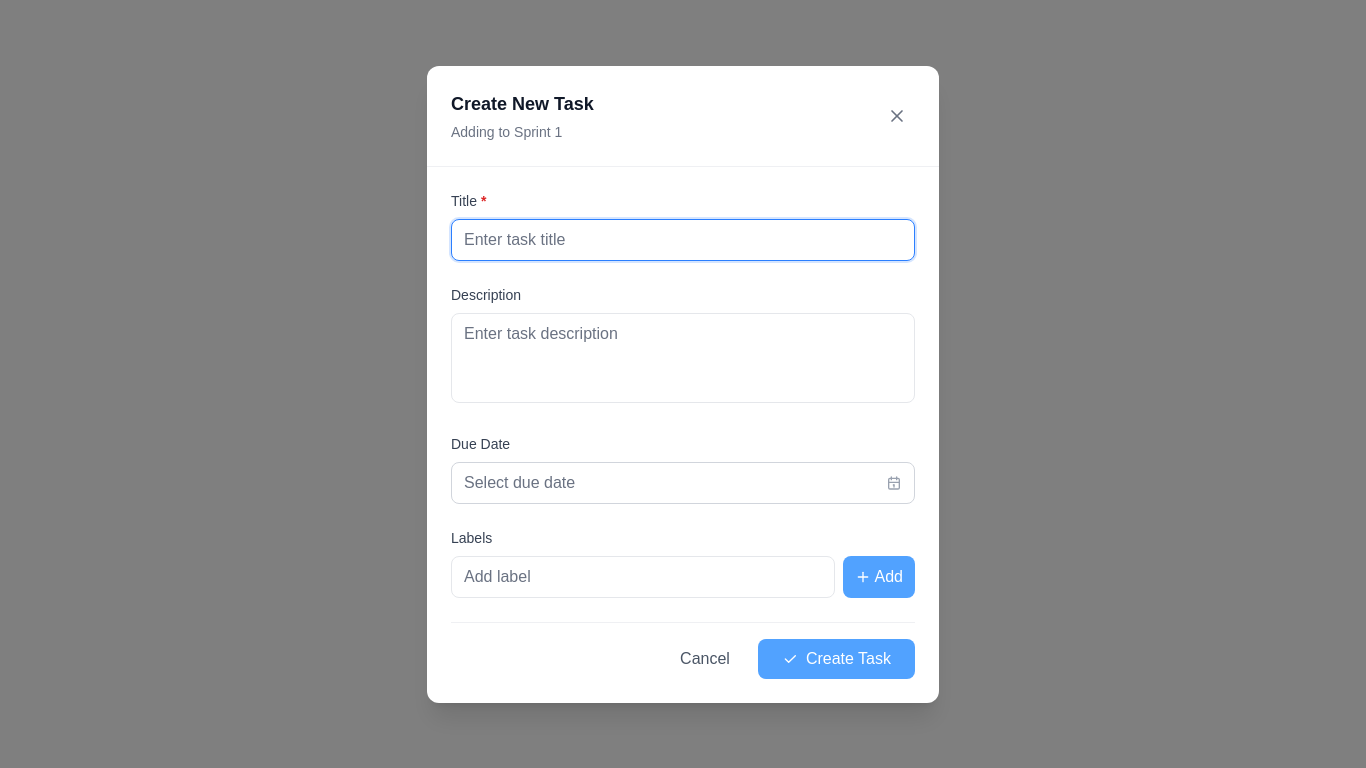
Scenario: TaskCreateModal › shows creating state when submitting
In the field with placeholder "Enter task title": {"x": 683, "y": 240} top-left (451, 218), bottom-right (915, 260), type "Task"
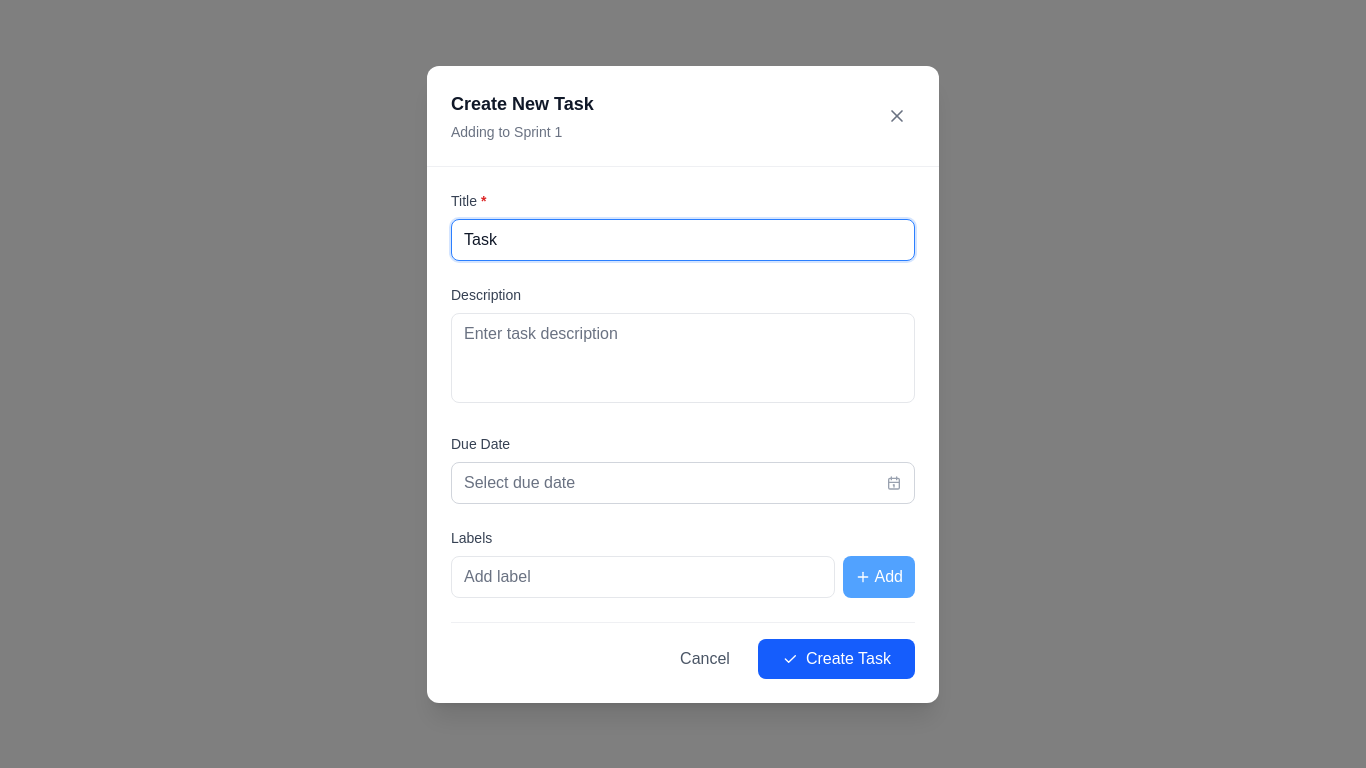
Click the button "Create Task": {"x": 836, "y": 658} top-left (758, 638), bottom-right (915, 678)
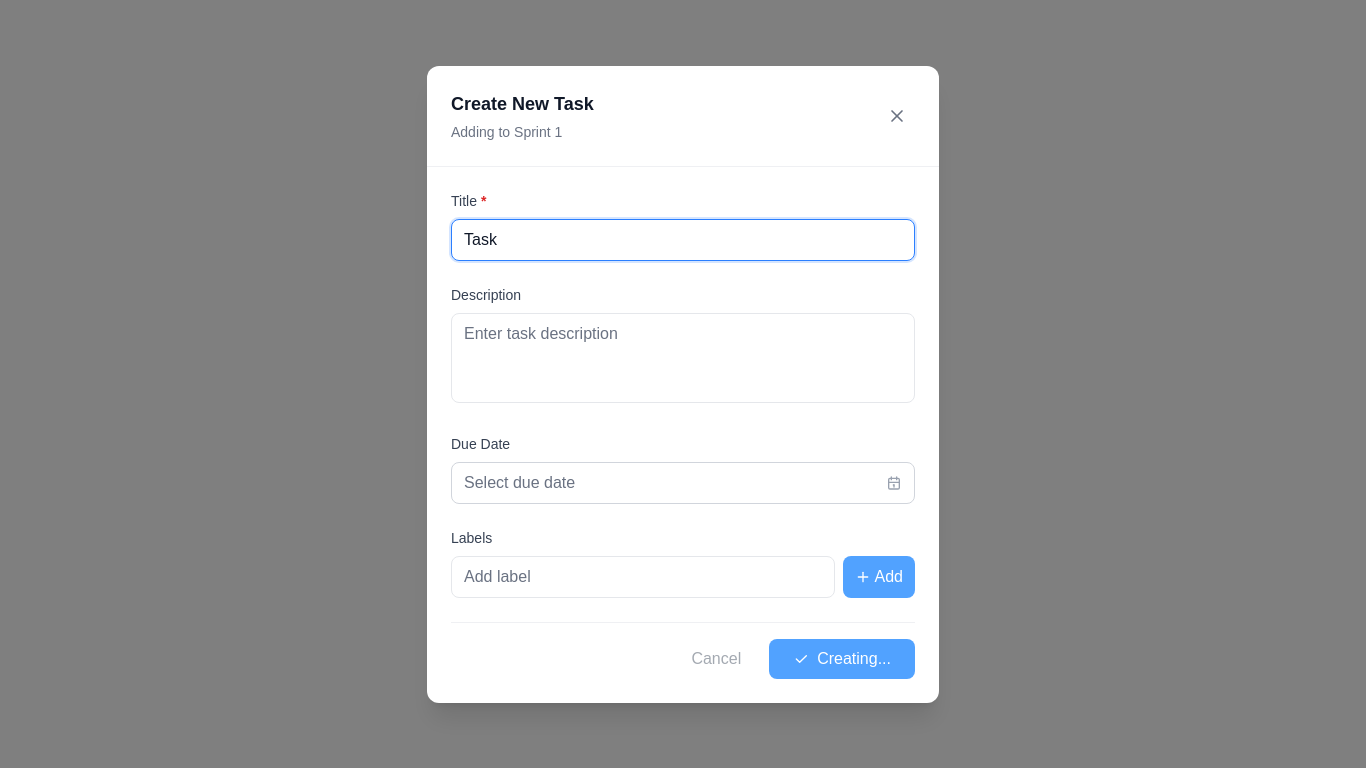
Result: the text "Creating..." is shown at top-left (817, 646), bottom-right (891, 670)
